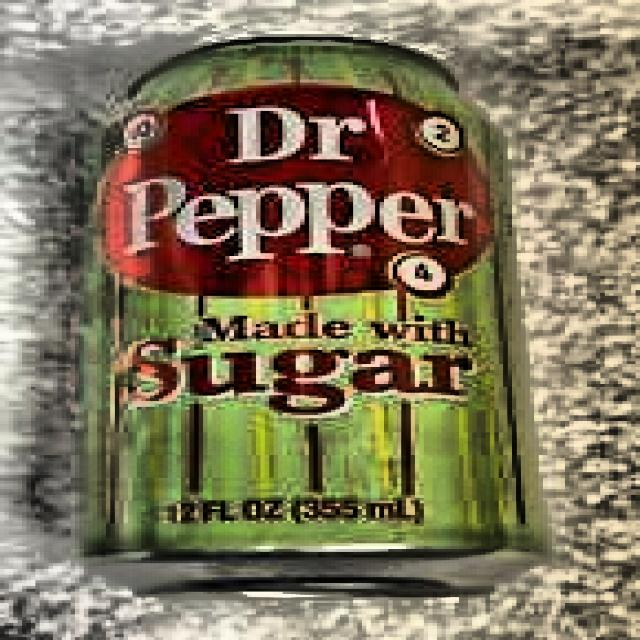Cans: (56, 21, 564, 630)
